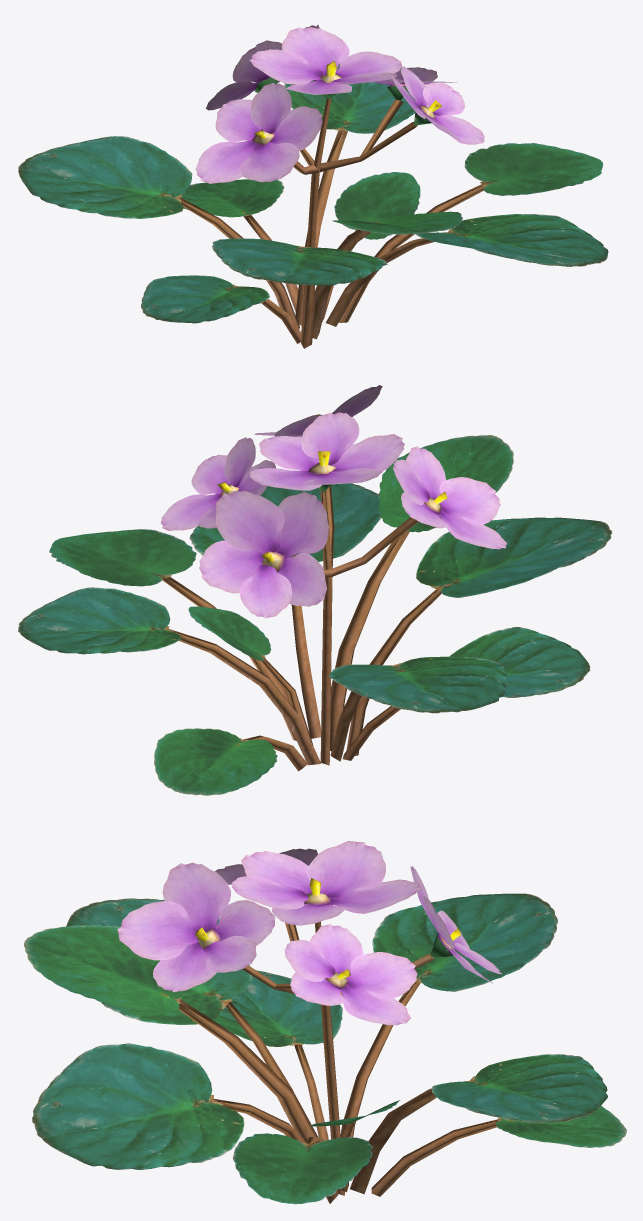
The model's file is Saintpaulia3A.fbx.
3 renders of one model, top to bottom at view 1: azimuth 30°, elevation 25°; view 2: azimuth 150°, elevation 25°; view 3: azimuth 270°, elevation 25°, orthographic. The views are drawn at different scales.
Visible parts, largest first — view 1: Sainpaulia3A_LOD0; view 2: Sainpaulia3A_LOD0; view 3: Sainpaulia3A_LOD0.
Boxes of the visible parts, x1,y1,x2,y2 form: Sainpaulia3A_LOD0: [18, 24, 608, 348]; Sainpaulia3A_LOD0: [18, 385, 612, 795]; Sainpaulia3A_LOD0: [24, 841, 626, 1204].
Bounding box in the file's own units: 62.9 × 36 × 56.95.
